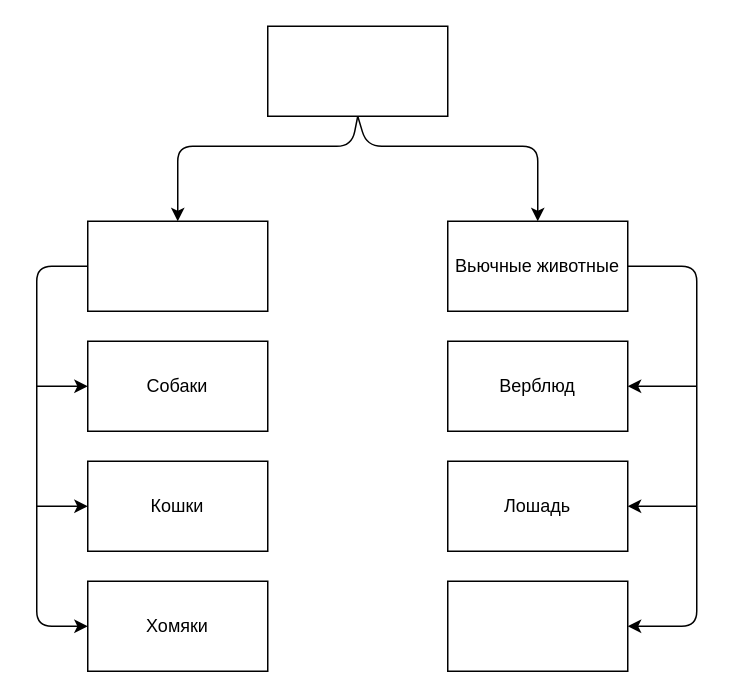
The diagram is 735 pixels wide and 698 high, and some of its shapes have lost their labels. The shapes that lost their labels are listed below. From the top down, each one's box as (x1, y1, x2, y2) in pixels, then its label:
(266, 25, 448, 116): Животные
(86, 220, 268, 311): Домашние животные
(446, 580, 628, 671): Осел
